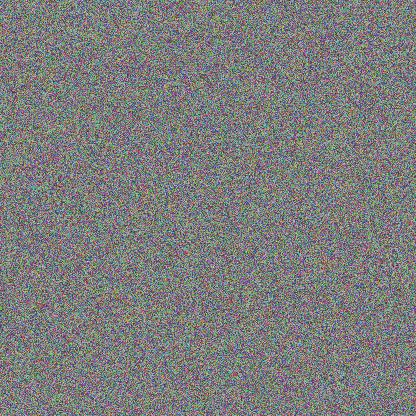empty: (231, 85, 348, 183)
